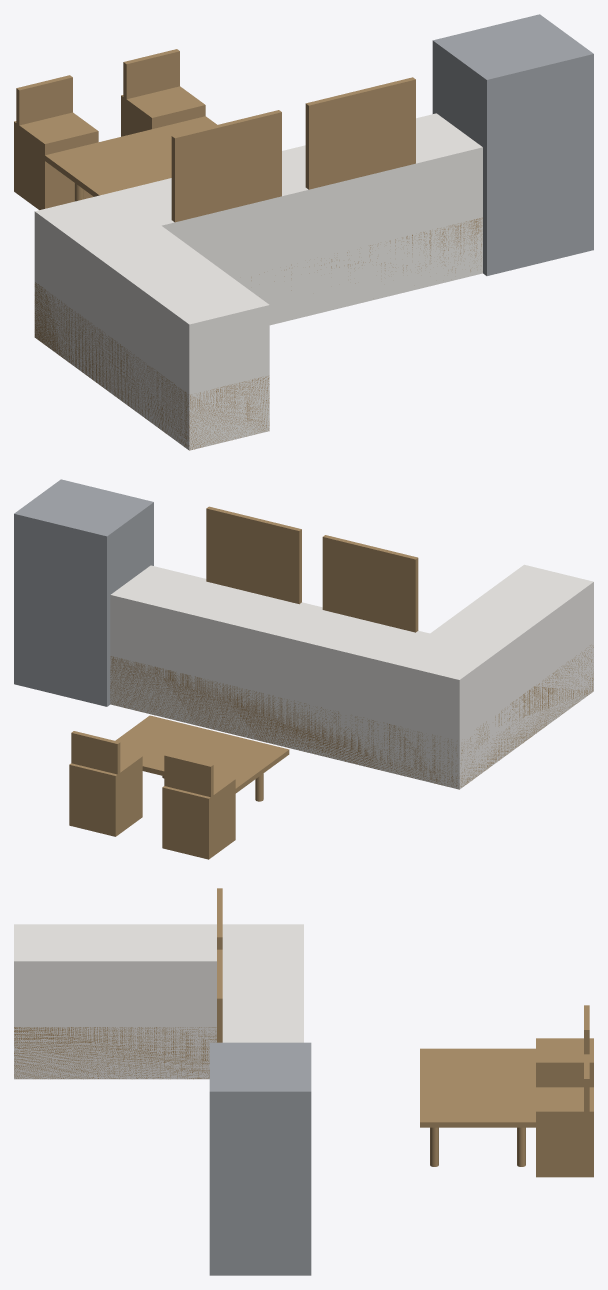
File: furniture_kitchen.fbx
The picture shows the model from 3 angles, top to bottom: view 1: azimuth 30°, elevation 25°; view 2: azimuth 150°, elevation 25°; view 3: azimuth 270°, elevation 25°; orthographic projection. The views are drawn at different scales.
Parts seen in each view (by area): view 1: CounterSide, Counter, Fridge, Cabinet_2, Cabinet_1, CounterSideBase, DiningTable, Chair_-0.4, Chair_0.4, ChairBack_-0.4, ChairBack_0.4, CounterBase; view 2: Counter, CounterSide, Fridge, CounterBase, Cabinet_1, Cabinet_2, DiningTable, Chair_0.4, Chair_-0.4, CounterSideBase, ChairBack_-0.4, ChairBack_0.4; view 3: CounterSide, Fridge, DiningTable, Counter, CounterSideBase, Chair_0.4, Chair_-0.4, Cabinet_2.
Boxes of the visible parts, x1,y1,x2,y2 form: CounterSide: [34, 192, 269, 450]; Counter: [48, 113, 482, 325]; Fridge: [432, 14, 593, 275]; Cabinet_2: [305, 77, 415, 189]; Cabinet_1: [171, 110, 281, 222]; CounterSideBase: [34, 282, 269, 449]; DiningTable: [45, 116, 217, 196]; Chair_-0.4: [14, 112, 98, 209]; Chair_0.4: [121, 86, 205, 136]; ChairBack_-0.4: [16, 75, 72, 145]; ChairBack_0.4: [123, 49, 179, 119]; CounterBase: [251, 217, 482, 290]; Counter: [110, 565, 487, 786]; CounterSide: [390, 564, 593, 789]; Fridge: [14, 479, 153, 706]; CounterBase: [110, 656, 447, 786]; Cabinet_1: [322, 535, 418, 632]; Cabinet_2: [206, 506, 301, 604]; DiningTable: [115, 715, 289, 793]; Chair_0.4: [69, 751, 142, 836]; Chair_-0.4: [162, 774, 235, 859]; CounterSideBase: [390, 645, 593, 789]; ChairBack_-0.4: [164, 753, 213, 814]; ChairBack_0.4: [71, 731, 120, 783]; CounterSide: [14, 924, 303, 1079]; Fridge: [209, 1042, 311, 1275]; DiningTable: [420, 1048, 535, 1127]; Counter: [222, 930, 303, 1042]; CounterSideBase: [14, 1027, 216, 1079]; Chair_0.4: [536, 1087, 593, 1177]; Chair_-0.4: [536, 1038, 593, 1087]; Cabinet_2: [217, 949, 222, 1042].
Bounding box in the file's own units: 3.8 × 1.5 × 4.
